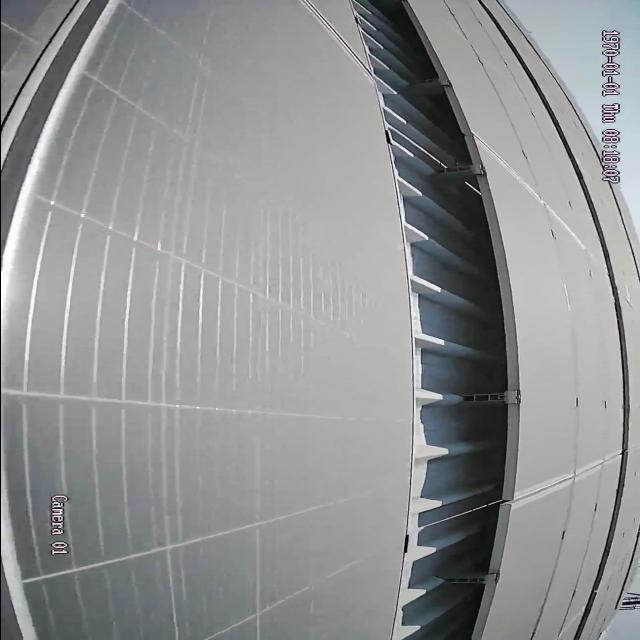interior panel: (0, 0, 114, 263), (476, 131, 581, 238), (514, 452, 620, 510), (300, 1, 368, 76), (0, 522, 42, 639)
outher panel: (352, 4, 513, 640)
